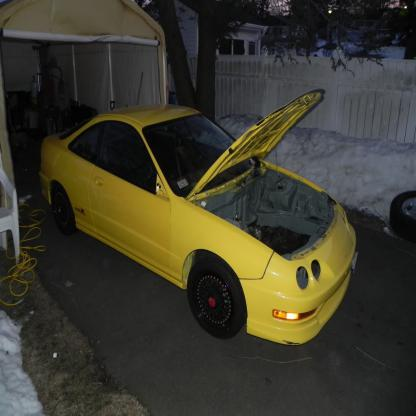Vehicle: (41, 88, 358, 352)
